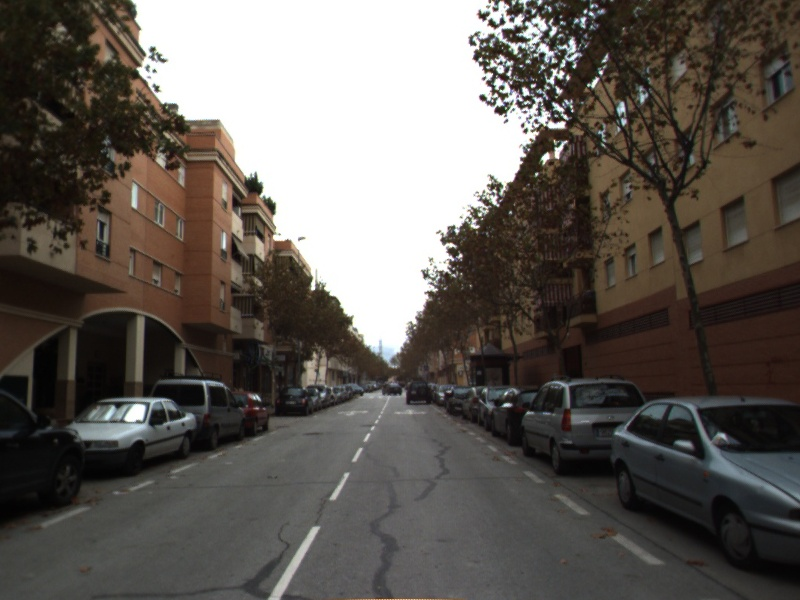STRAIGHT_LEFT_RIGHT: (391, 407, 429, 417)
